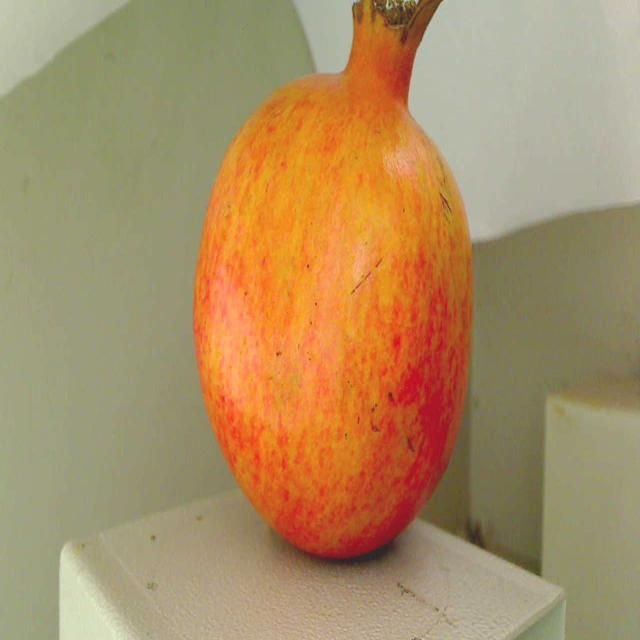pomegranate: (178, 0, 498, 592)
